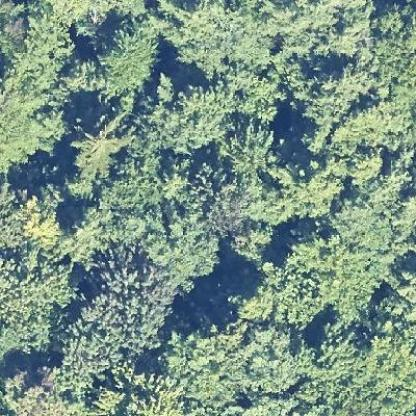tree-top: (70, 260, 180, 348), (158, 0, 280, 75), (314, 327, 408, 415), (149, 82, 231, 153), (185, 170, 251, 242), (96, 25, 162, 93), (270, 155, 340, 219), (70, 113, 128, 178), (120, 370, 189, 415)
